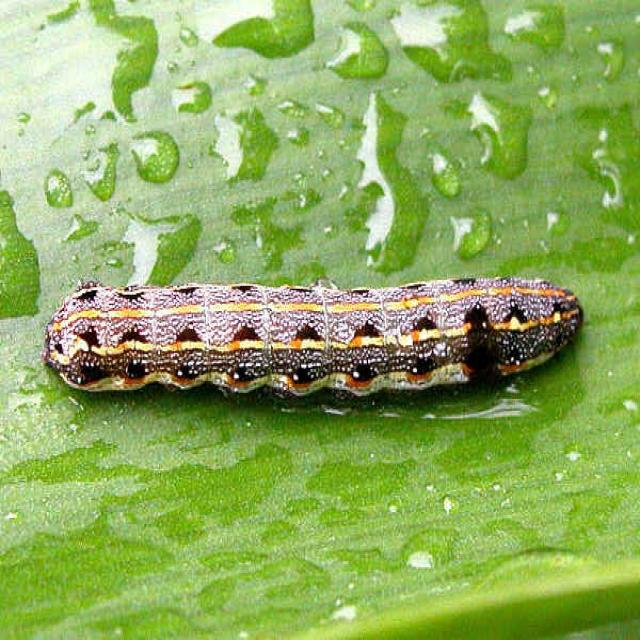worm: (42, 274, 585, 402)
